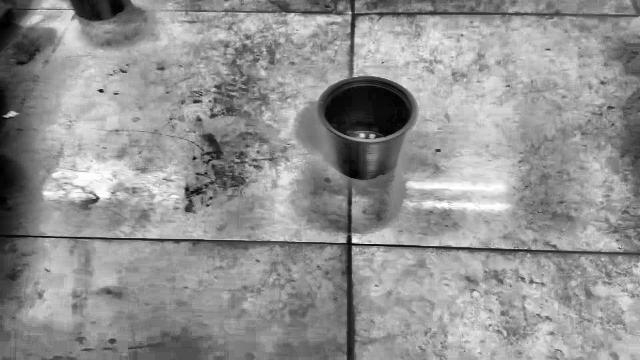pot: (318, 77, 417, 179)
